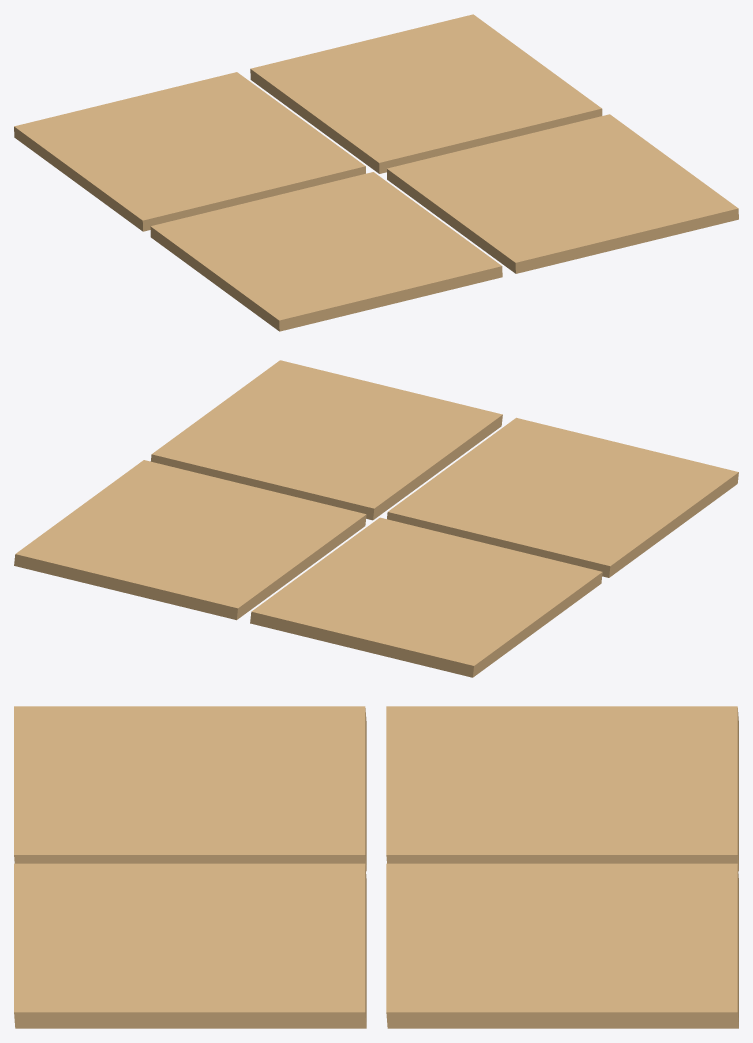
The model's file is dalle3.fbx.
3 renders of one model, top to bottom at view 1: azimuth 30°, elevation 25°; view 2: azimuth 150°, elevation 25°; view 3: azimuth 270°, elevation 25°, orthographic. The views are drawn at different scales.
Visible parts, largest first — view 1: Cube; view 2: Cube; view 3: Cube.
Part boxes in pixels (x1,y1,x2,y2): Cube: (14, 14, 738, 331); Cube: (14, 360, 738, 677); Cube: (14, 706, 738, 1028).
Size of the model in its own units: 194 by 4.7 by 194.
